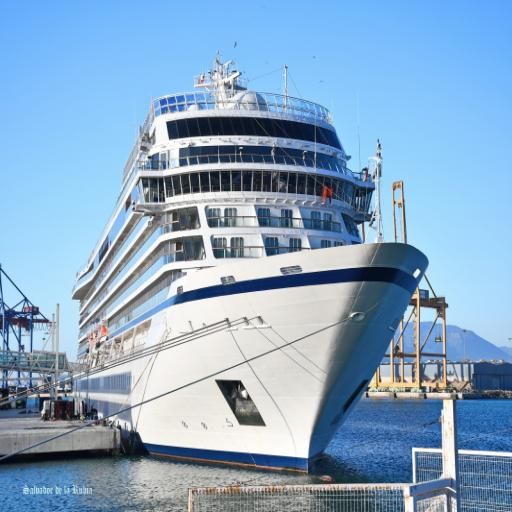cruises: (70, 56, 434, 483)
